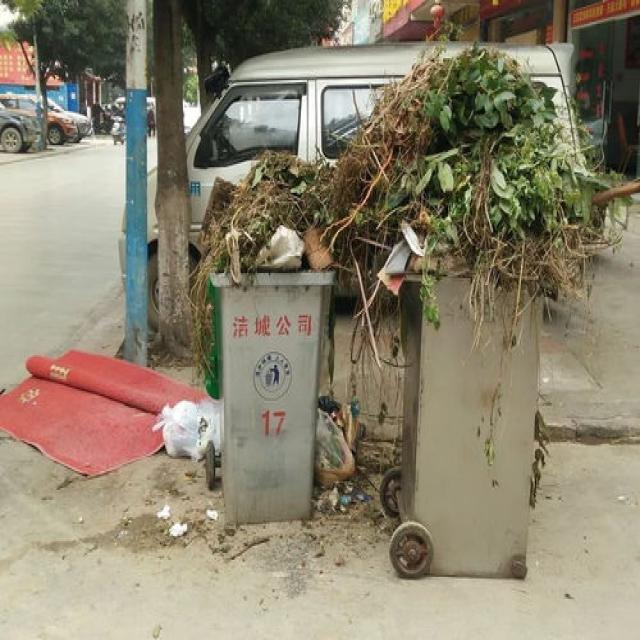garbage: (0, 348, 219, 478), (314, 393, 372, 512)
overflow: (336, 20, 638, 577), (181, 148, 334, 520)
